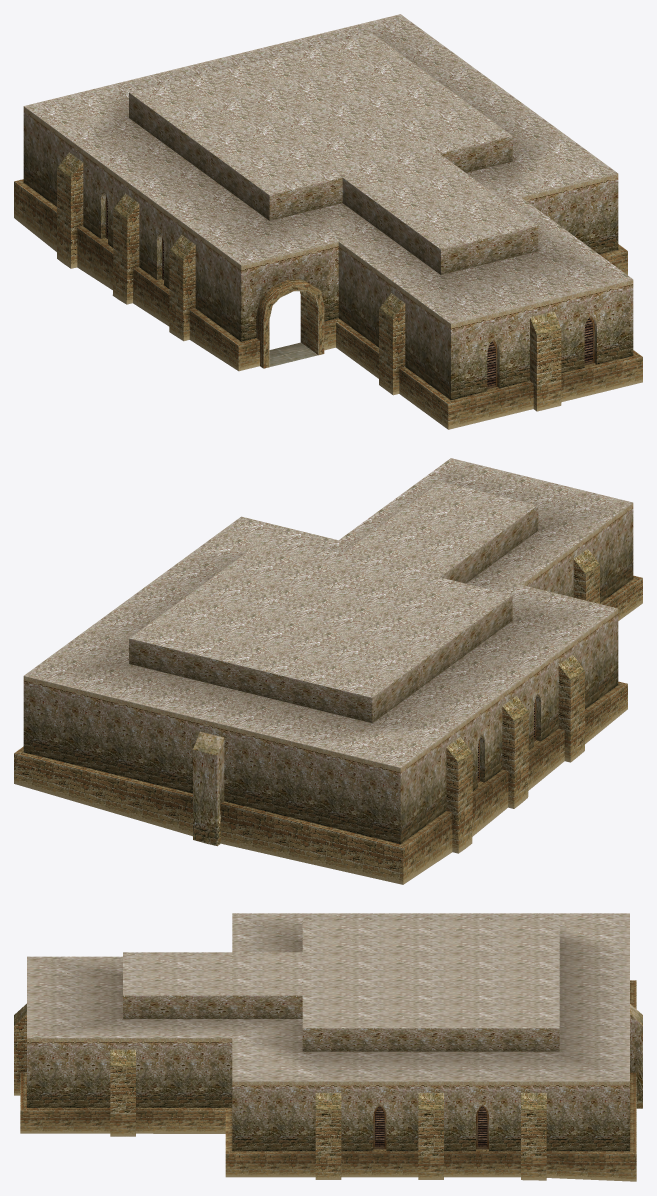
File: Mission8_DomeBuildingExt.glb
3 views of the same model, one above another, from view 1: azimuth 30°, elevation 25°; view 2: azimuth 150°, elevation 25°; view 3: azimuth 270°, elevation 25° (orthographic). The views are drawn at different scales.
Parts seen in each view (by area): view 1: MISSION8_DOMEBUILDINGEXT; view 2: MISSION8_DOMEBUILDINGEXT; view 3: MISSION8_DOMEBUILDINGEXT.
Boxes of the visible parts, bbox=[...] form: MISSION8_DOMEBUILDINGEXT: bbox=[14, 14, 642, 429]; MISSION8_DOMEBUILDINGEXT: bbox=[14, 458, 642, 884]; MISSION8_DOMEBUILDINGEXT: bbox=[14, 913, 642, 1181].
Bounding box in the file's own units: 16.51 × 5.59 × 24.5.
Materials: 6 (6 with a texture image).
